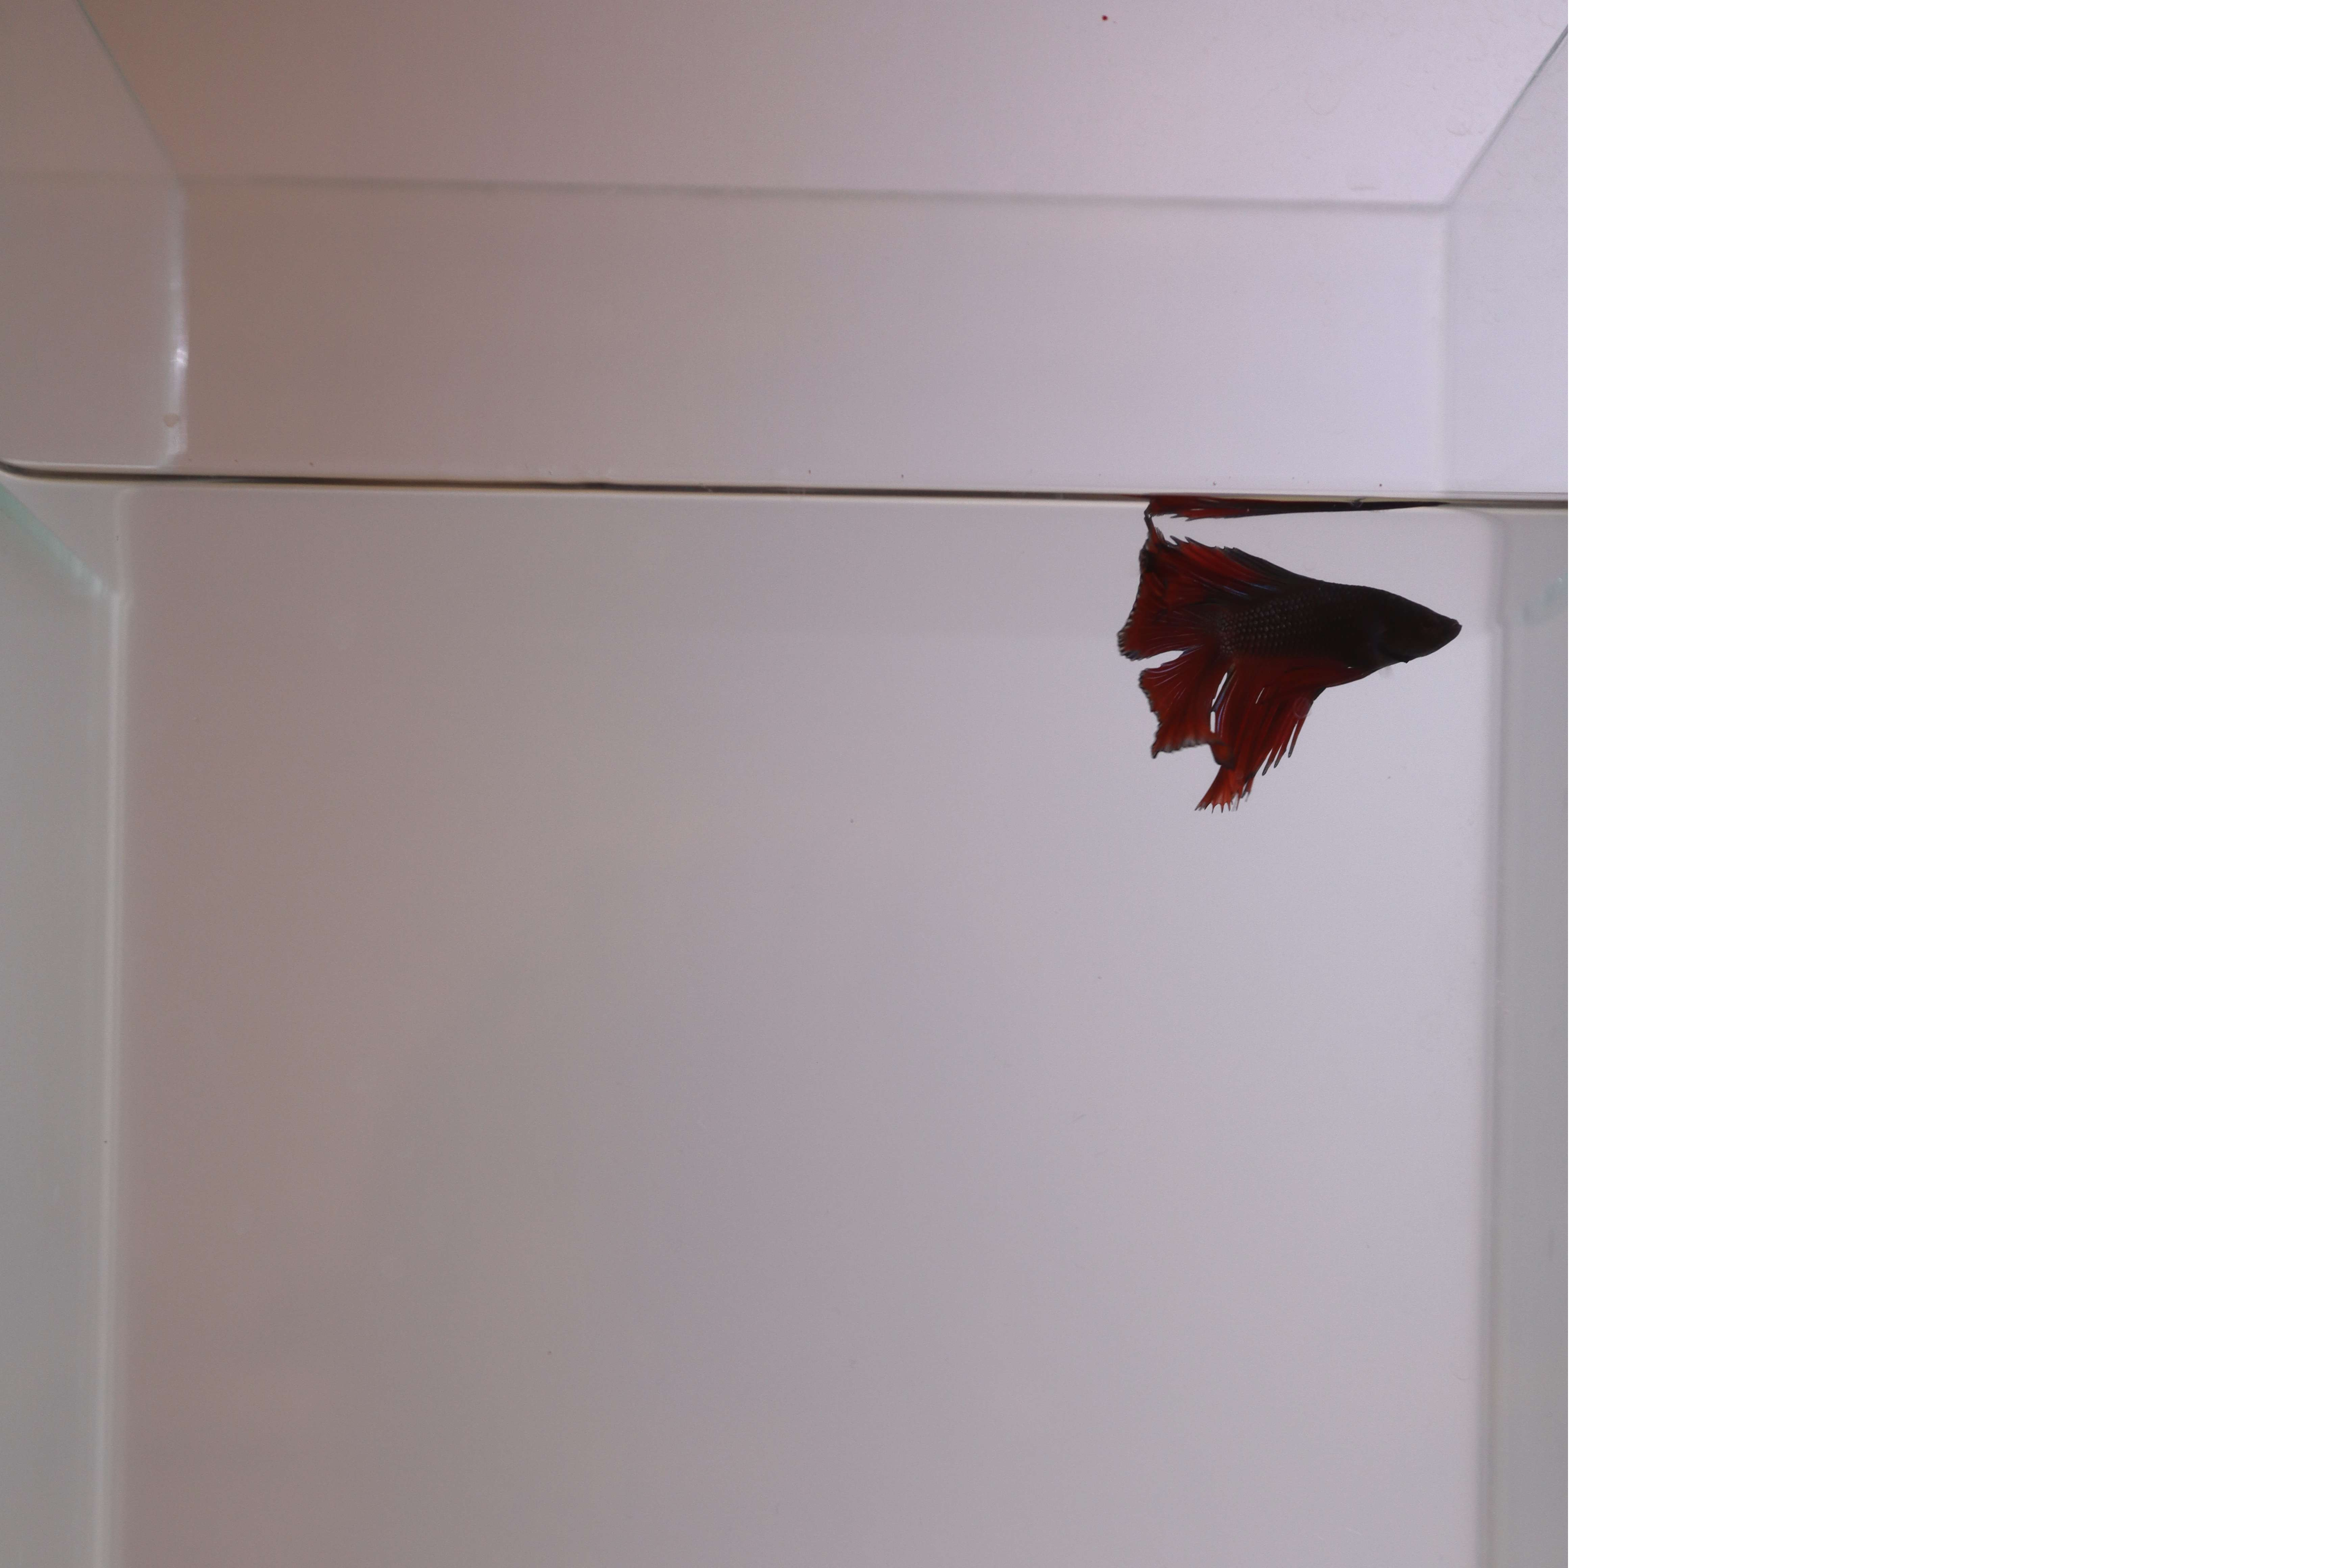fish: (1108, 513, 1491, 810)
